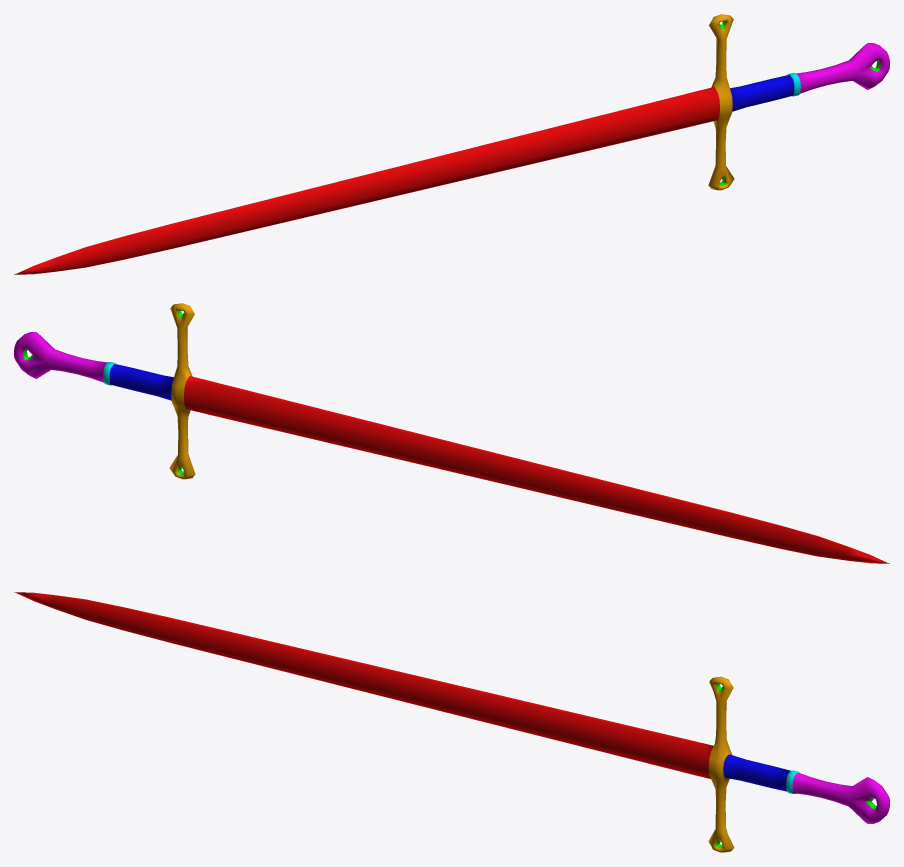
File: silver_sword_low_poly.fbx
3 renders of one model, top to bottom at view 1: azimuth 30°, elevation 25°; view 2: azimuth 150°, elevation 25°; view 3: azimuth 330°, elevation 25°, orthographic.
Parts seen in each view (by area): view 1: sword; view 2: sword; view 3: sword.
Part boxes in pixels (x1,y1,x2,y2): sword: [14, 14, 889, 274]; sword: [14, 303, 889, 563]; sword: [14, 592, 889, 852].
Size of the model in its own units: 493 by 94.93 by 12.36.
